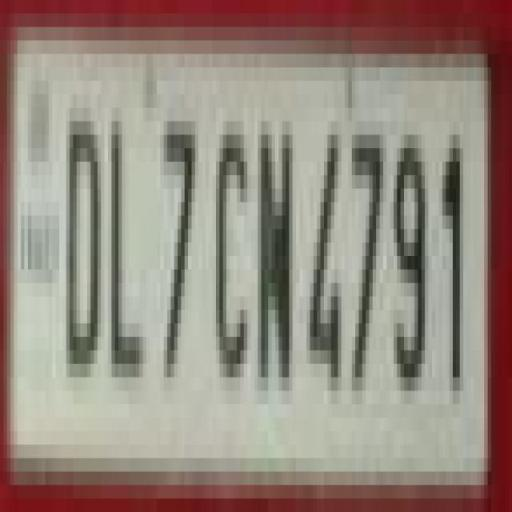number plate: (0, 0, 488, 498)
